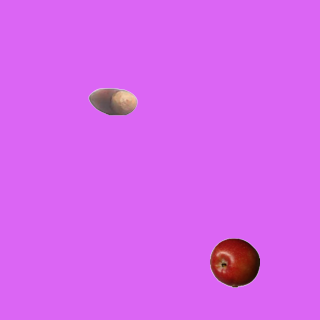Apple Braeburn: (209, 237, 259, 287)
Hazelnut: (87, 76, 137, 126)
